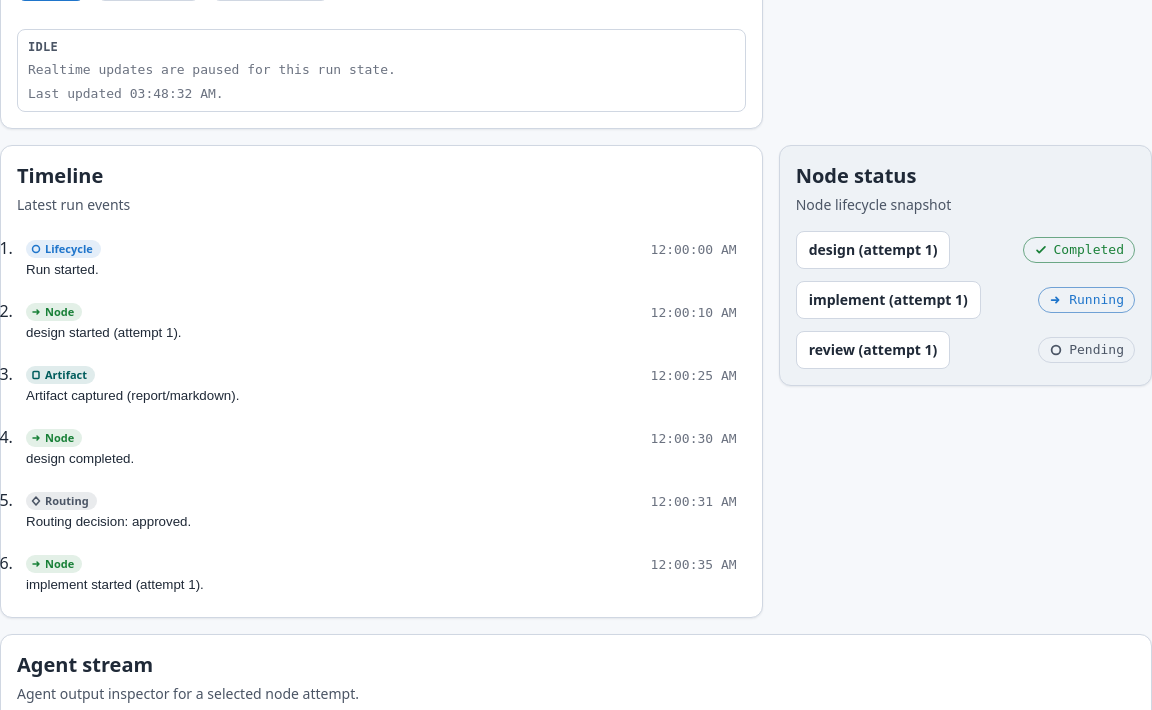
Test: RunDetailContent realtime updates › clears agent stream target when selecting a non-streamable node in the status panel
(page scrolled)
Expected: the element "Node status" is shown, [779, 145, 1151, 386]
Click the button "review (attempt 1)": (873, 350) [796, 331, 950, 369]
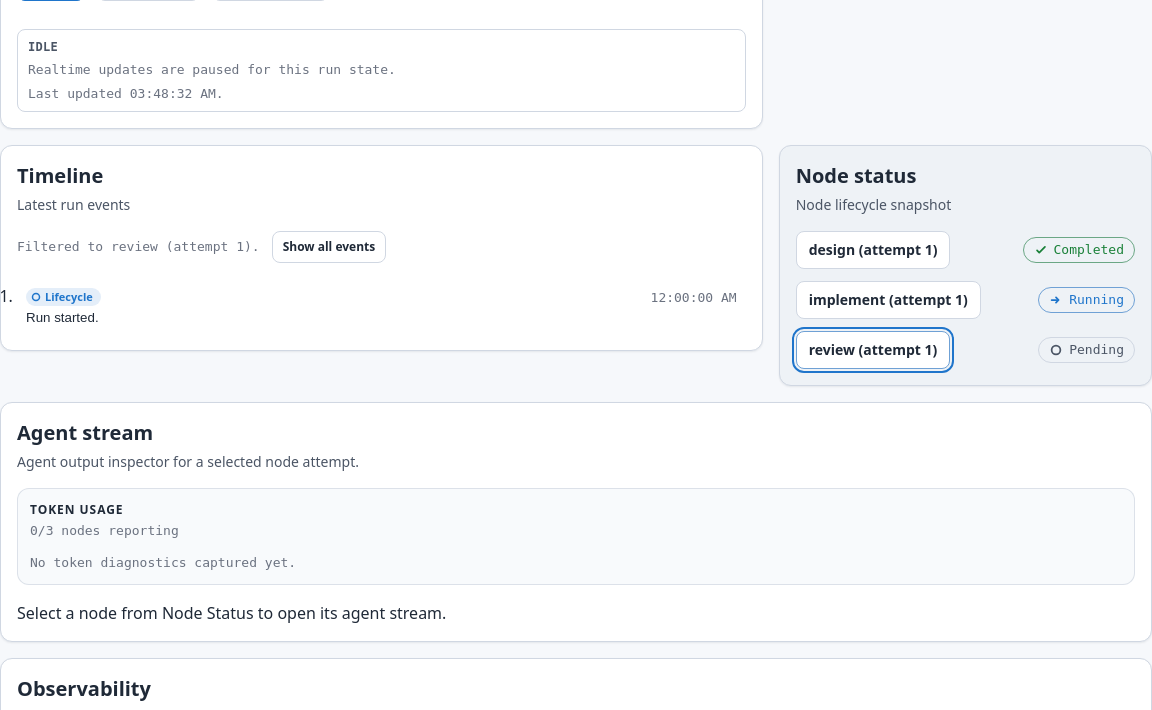
Expected: the text "Select a node from Node Status to open its agent stream." is shown, [17, 602, 446, 624]
